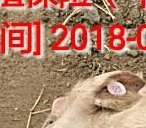text: (101, 73, 133, 101)
